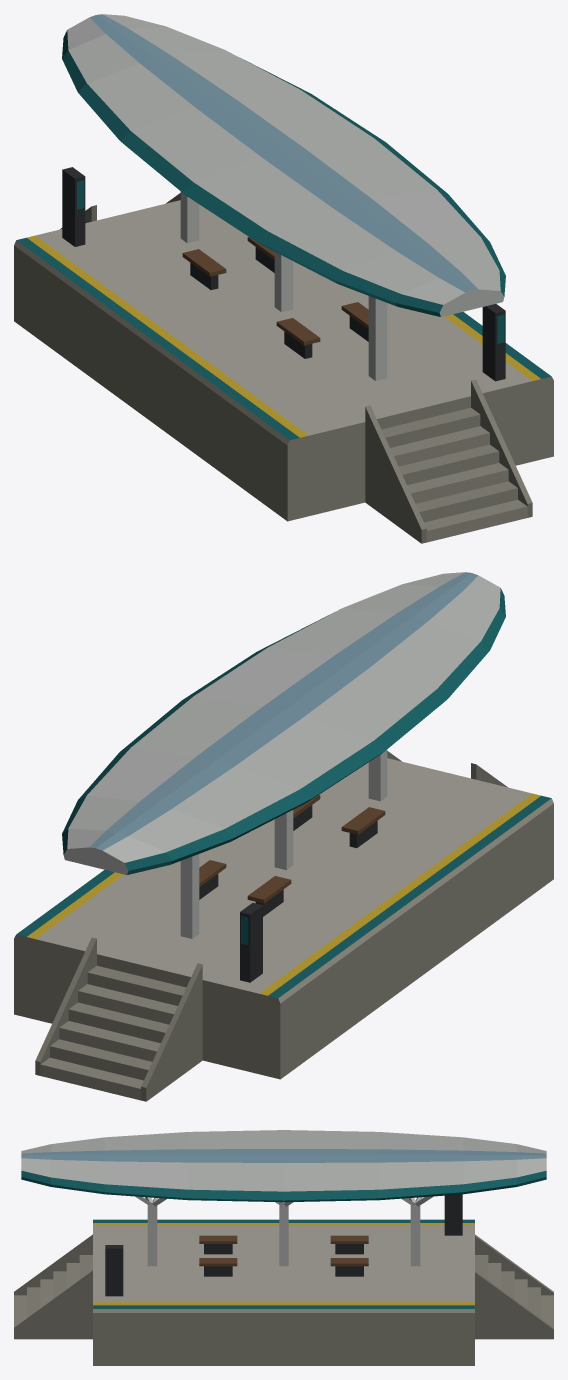
Rendered from platform.glb.
The picture shows the model from 3 angles, top to bottom: view 1: azimuth 30°, elevation 25°; view 2: azimuth 150°, elevation 25°; view 3: azimuth 270°, elevation 25°; orthographic projection. The views are drawn at different scales.
Parts seen in each view (by area): view 1: platform; view 2: platform; view 3: platform.
Boxes of the visible parts, x1=… form: platform: x1=14, y1=14, x2=553, y2=543; platform: x1=14, y1=572, x2=553, y2=1101; platform: x1=14, y1=1130, x2=553, y2=1365.
Bounding box in the file's own units: 18 × 15.25 × 45.2.
